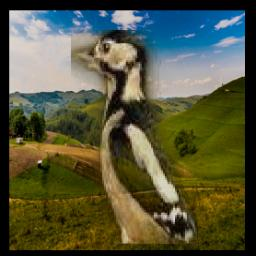Woodpecker: (71, 30, 198, 244)
